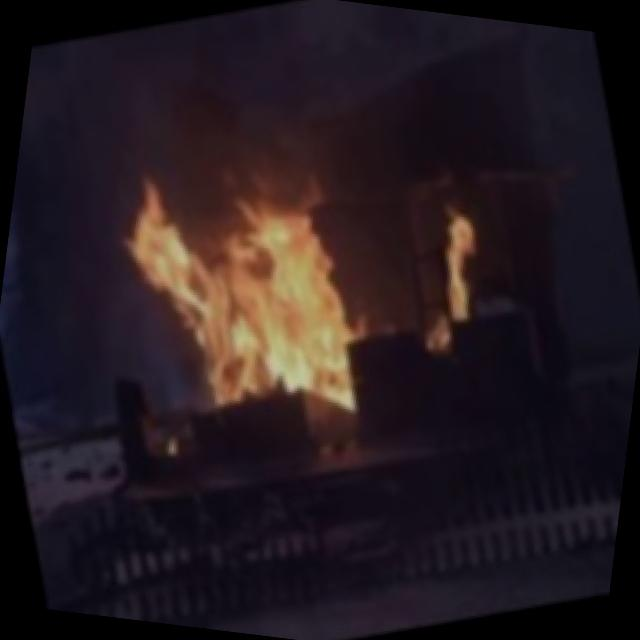fire: (52, 26, 567, 521)
